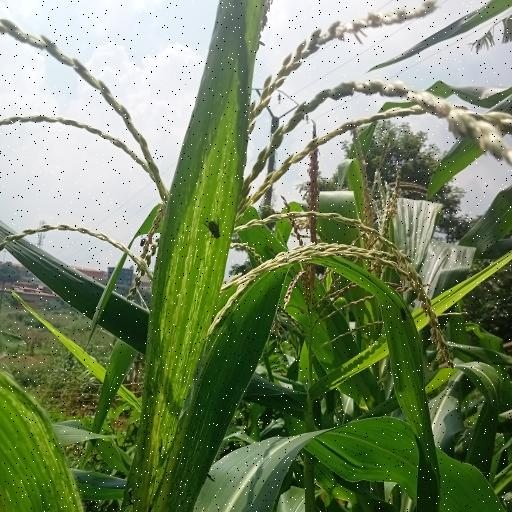Corn_Streak: (137, 0, 284, 512)
